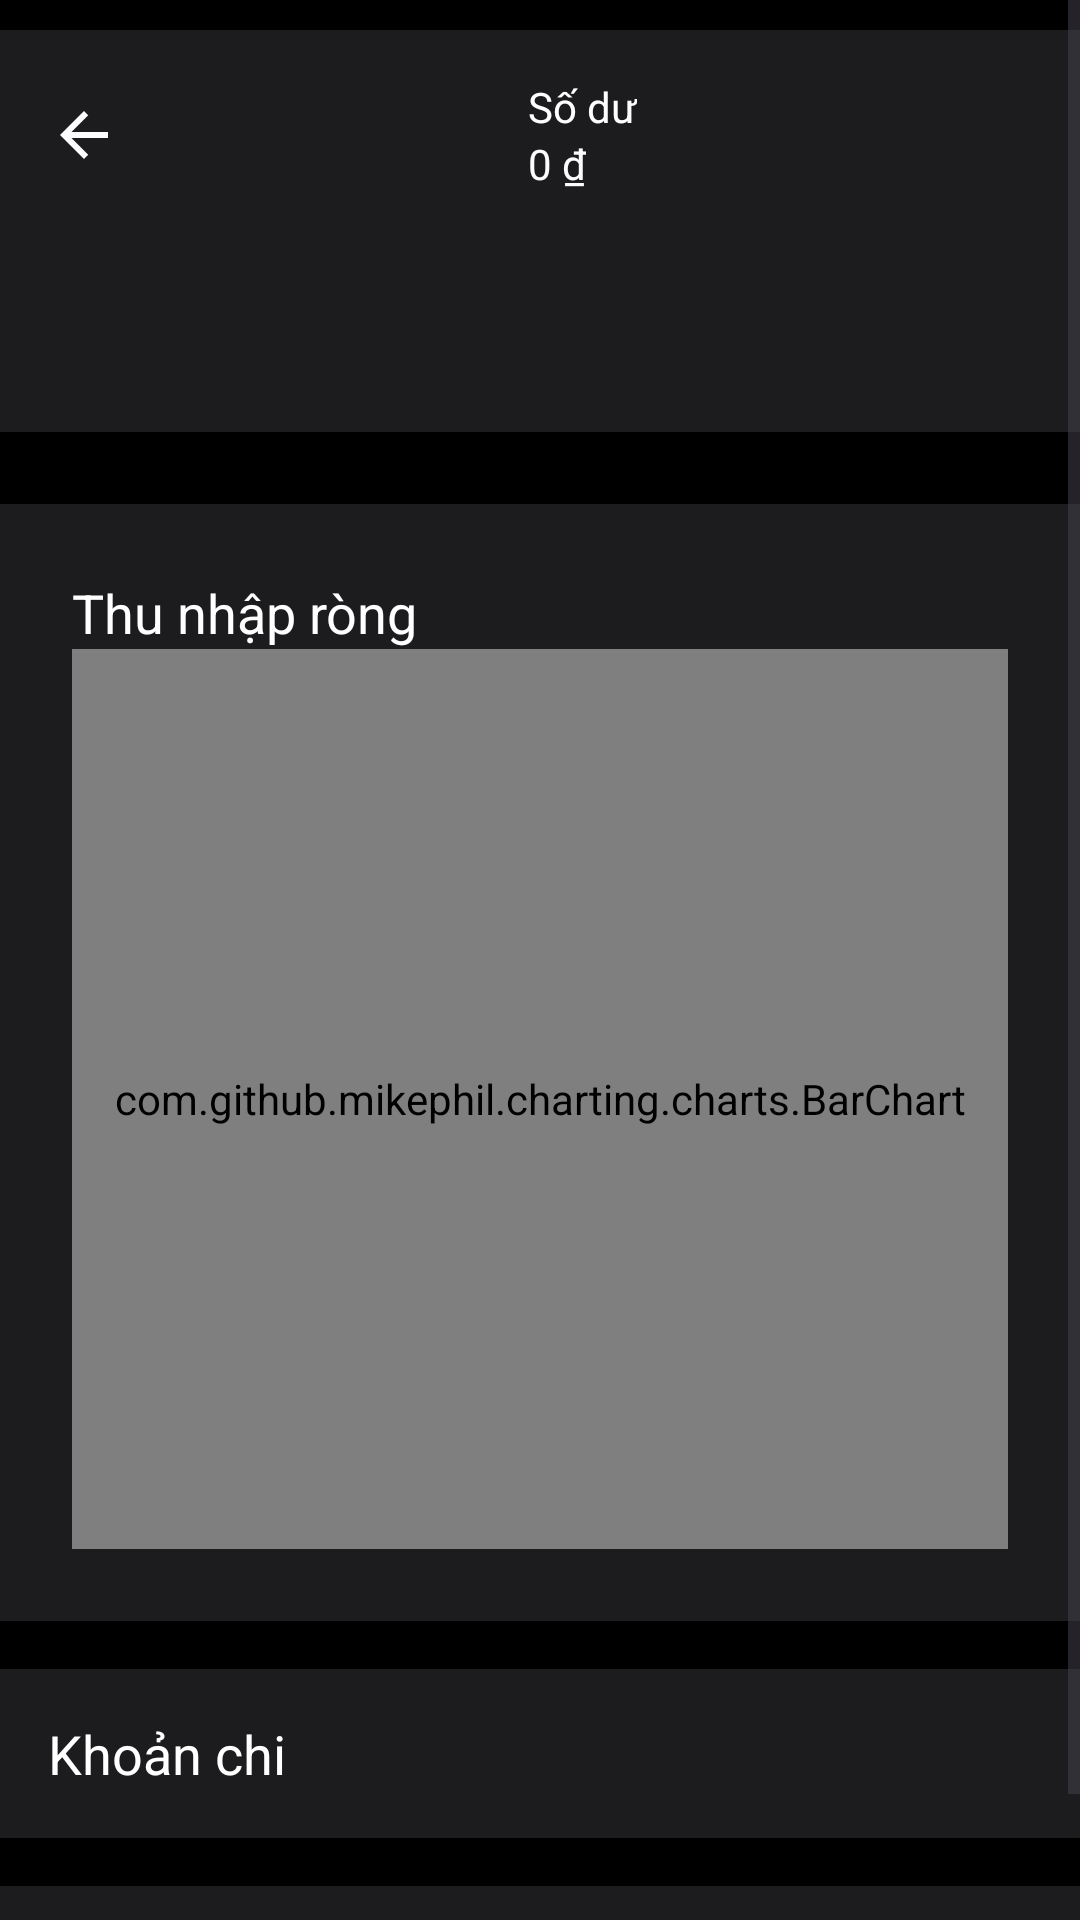

Icons on this 1080 × 1920 Android screen, each with the point to tap as point (x, y):
arrow back: point (84, 135)
